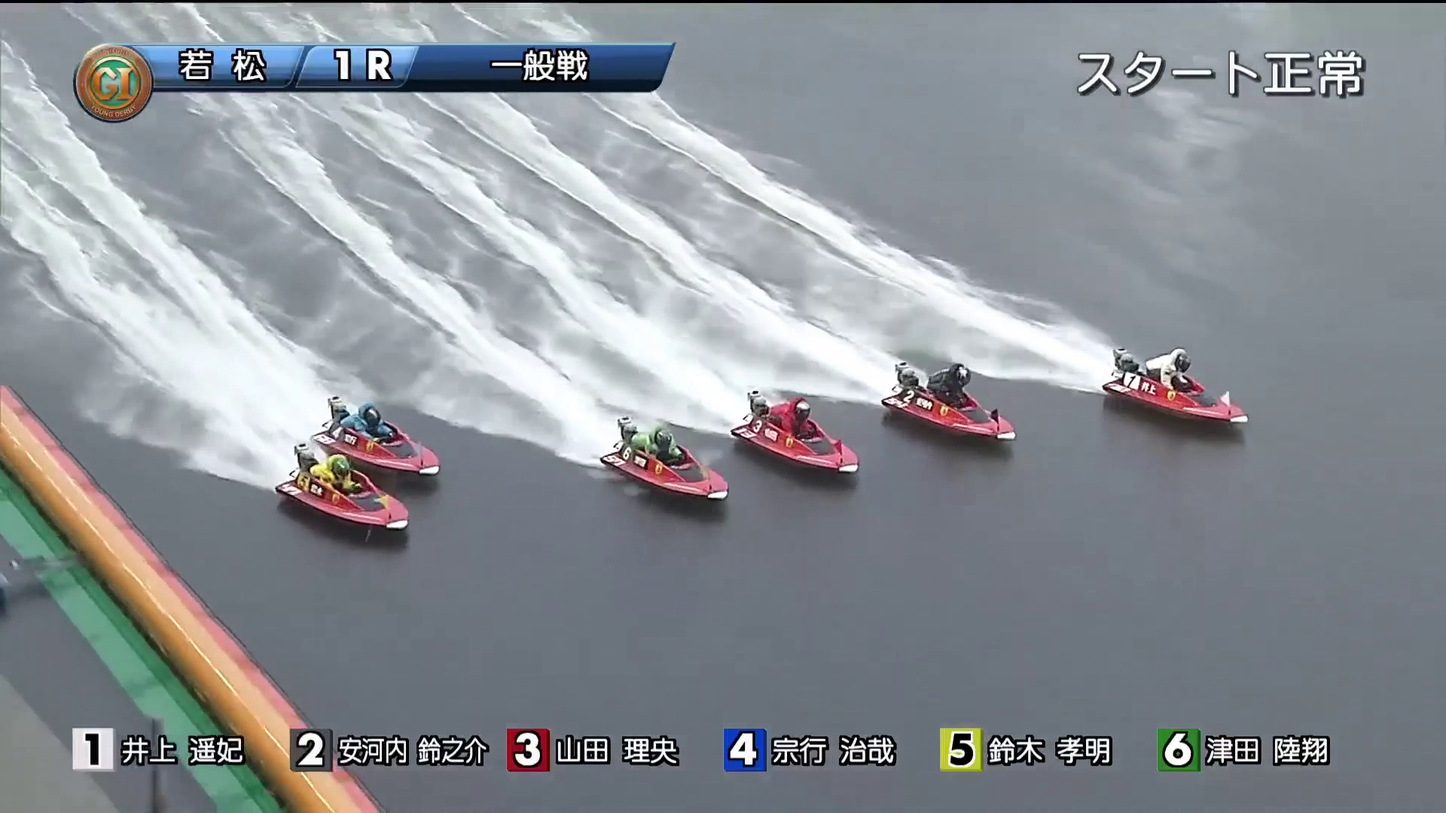１号艇: (1117, 354, 1242, 405)
２号艇: (896, 370, 1016, 425)
３号艇: (754, 425, 883, 467)
４号艇: (623, 449, 739, 509)
５号艇: (334, 425, 457, 480)
６号艇: (326, 503, 426, 560)
